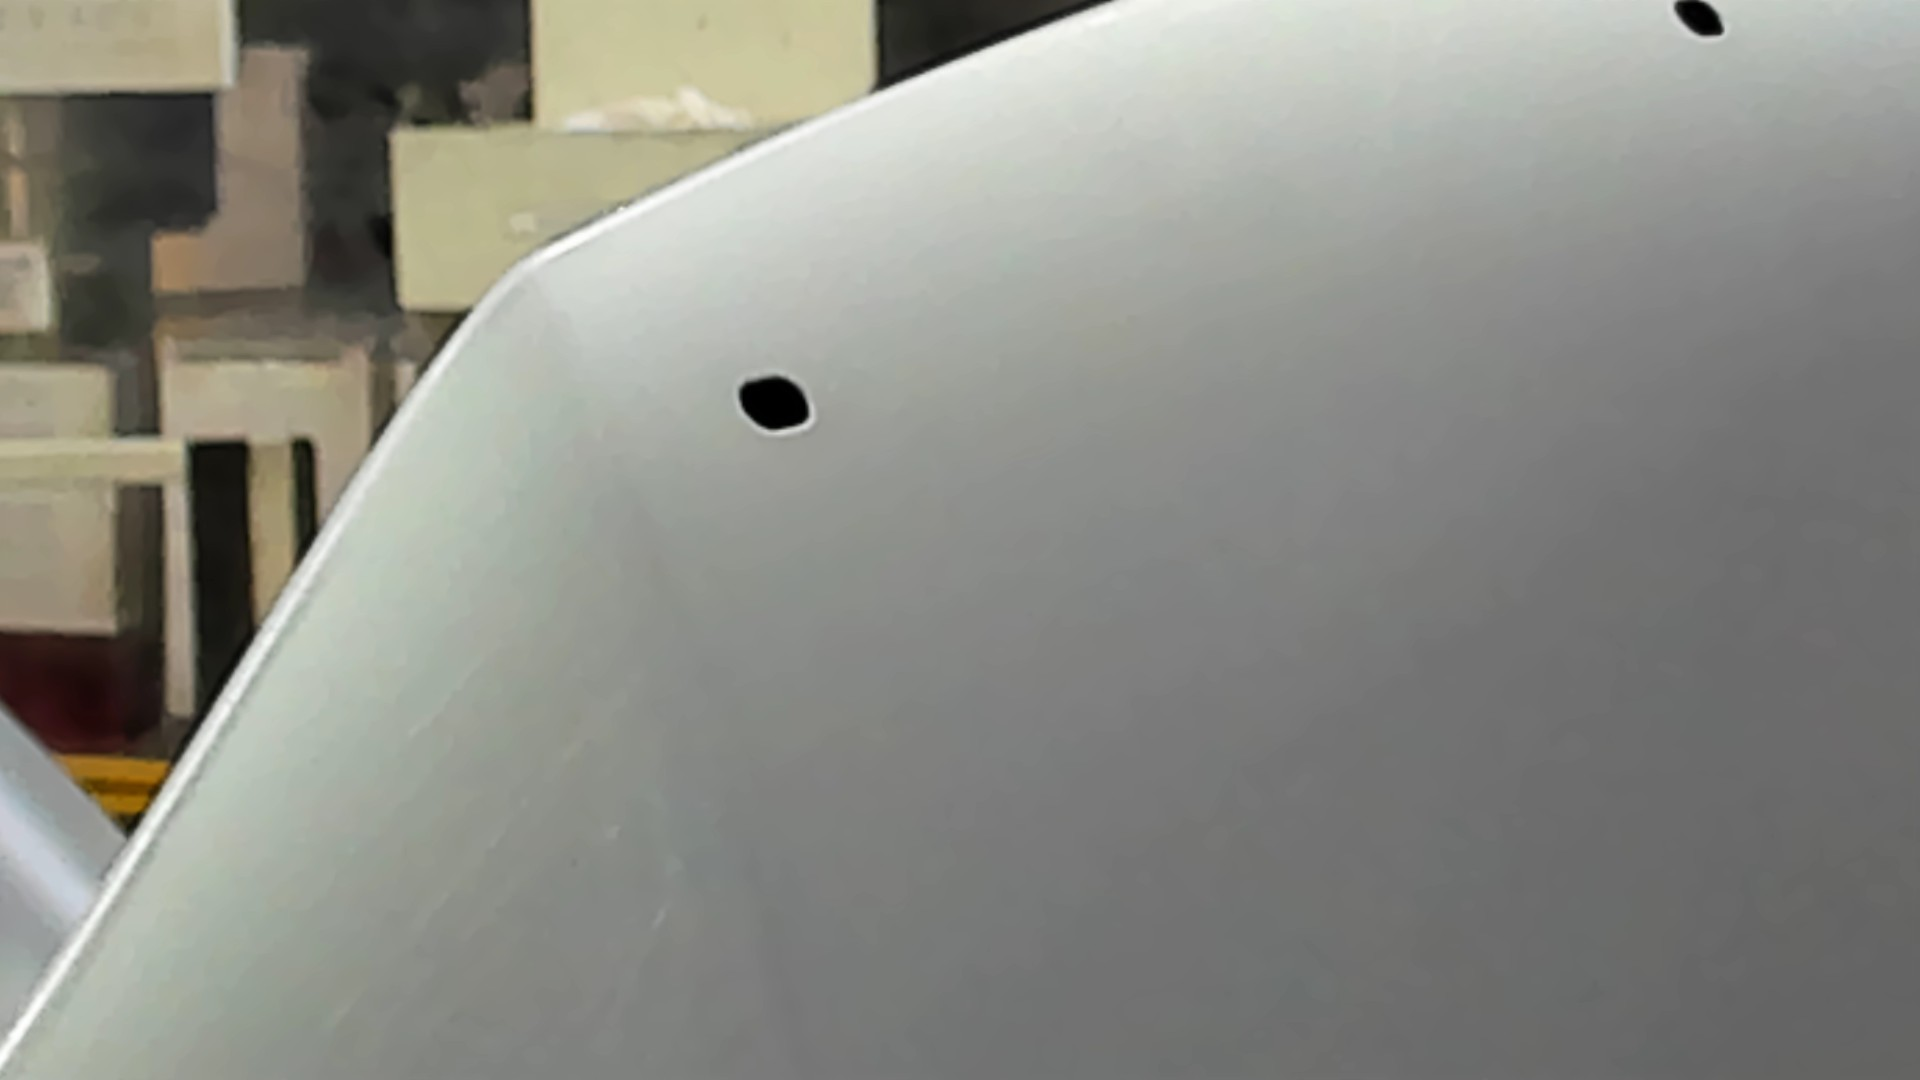amorfo: (731, 372, 819, 435), (1663, 1, 1735, 46)
